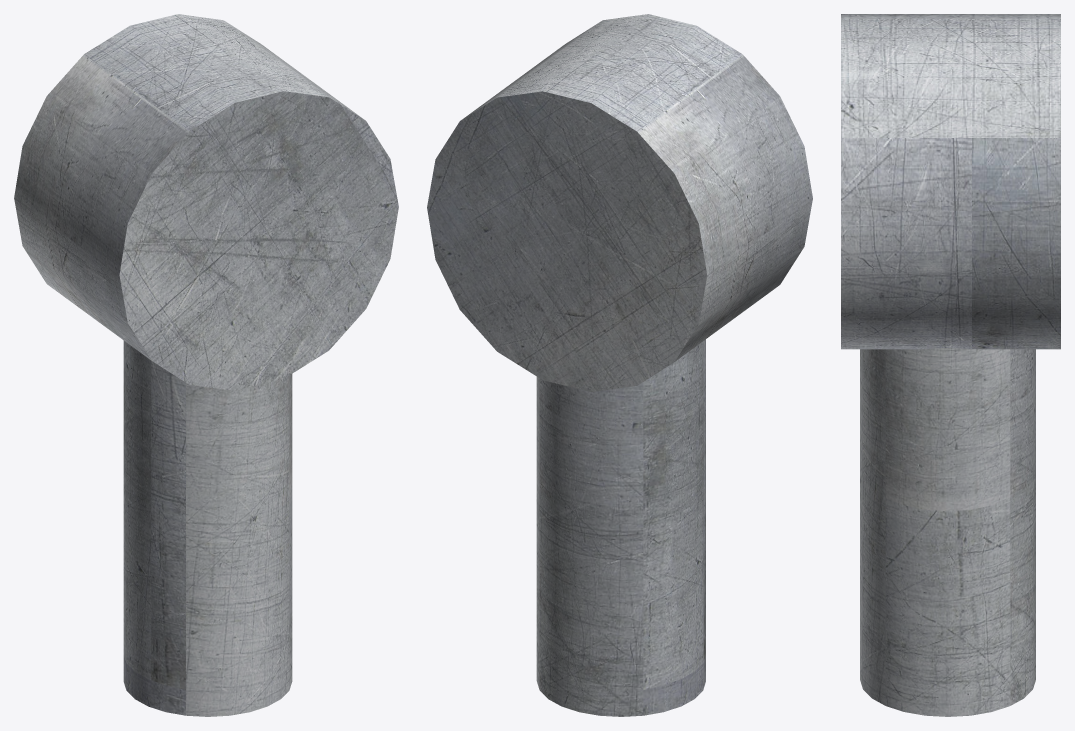
The model's file is WILDCAT_LowerLeg.FBX.
3 renders of one model, left to right at view 1: azimuth 30°, elevation 25°; view 2: azimuth 150°, elevation 25°; view 3: azimuth 270°, elevation 25°, orthographic. The views are drawn at different scales.
Parts seen in each view (by area): view 1: LEG_Lower; view 2: LEG_Lower; view 3: LEG_Lower.
Boxes of the visible parts, x1,y1,x2,y2 form: LEG_Lower: (14,14,398,716); LEG_Lower: (427,14,812,716); LEG_Lower: (841,14,1060,716).
Bounding box in the file's own units: 4.76 × 3.11 × 10.11.
Materials: 1 (1 with a texture image).
